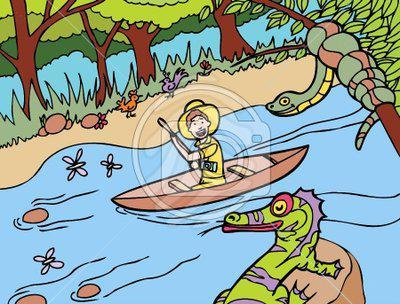bird: (161, 65, 190, 97), (115, 87, 144, 119)
boat: (113, 142, 312, 217)
person: (165, 99, 231, 190)
